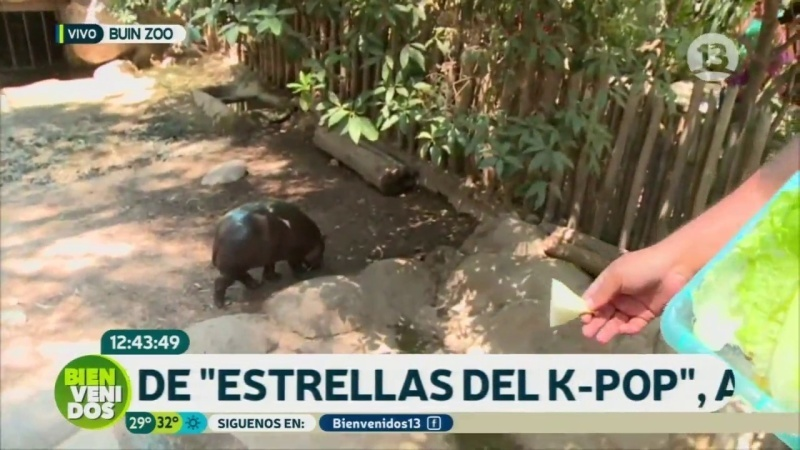hipopotamo: (199, 187, 337, 317)
